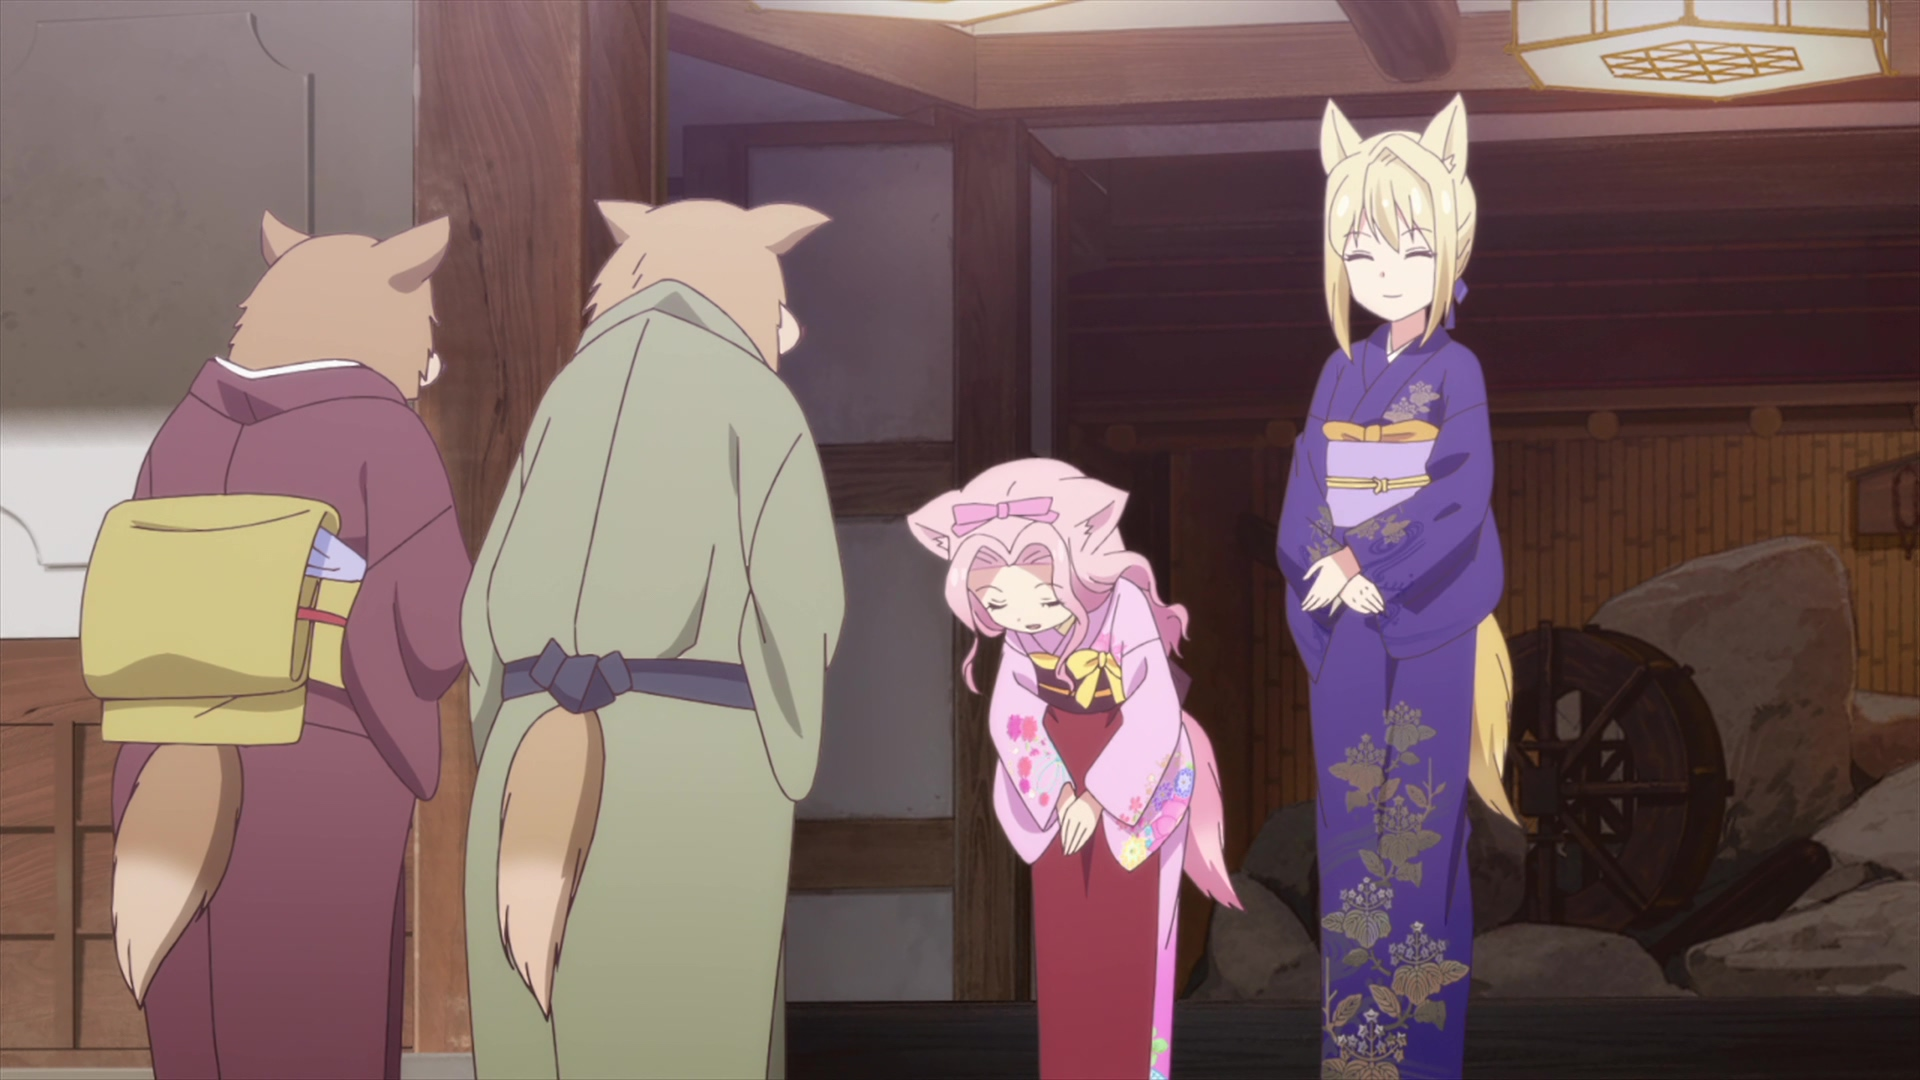其他: (80, 215, 475, 1080), (463, 198, 848, 1080)
桐: (1275, 94, 1518, 1080)
莲: (909, 456, 1245, 1080)
